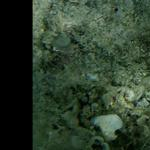dead: (31, 1, 146, 148)
